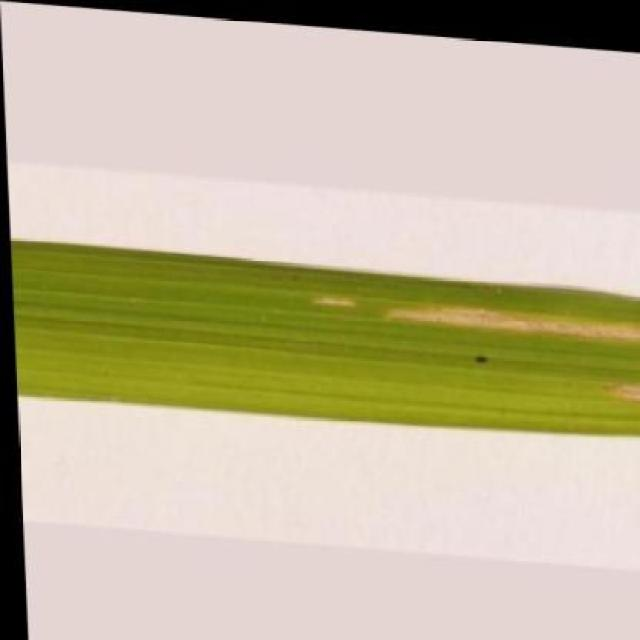Brown_Spot: (7, 233, 640, 442)
